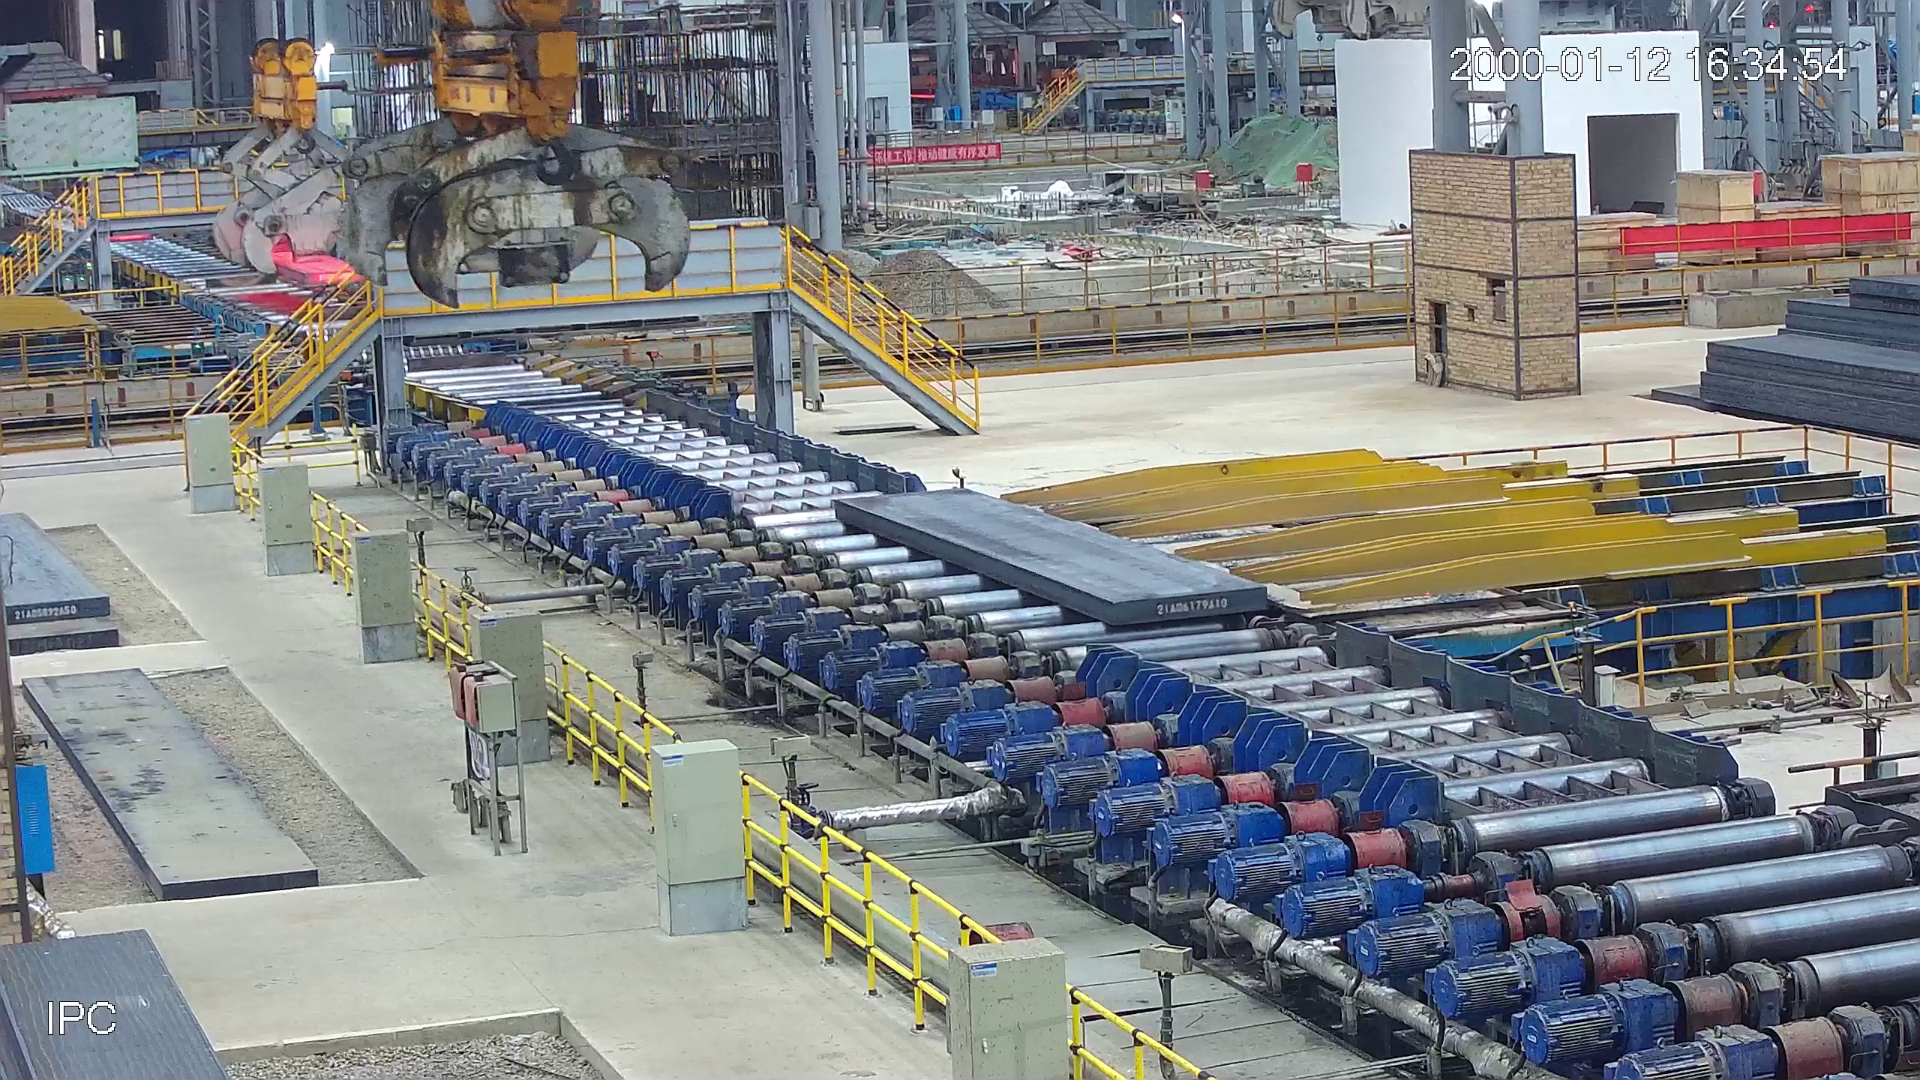crane: (336, 1, 695, 307)
craneandslab: (208, 38, 378, 294)
slab: (835, 495, 1265, 629)
